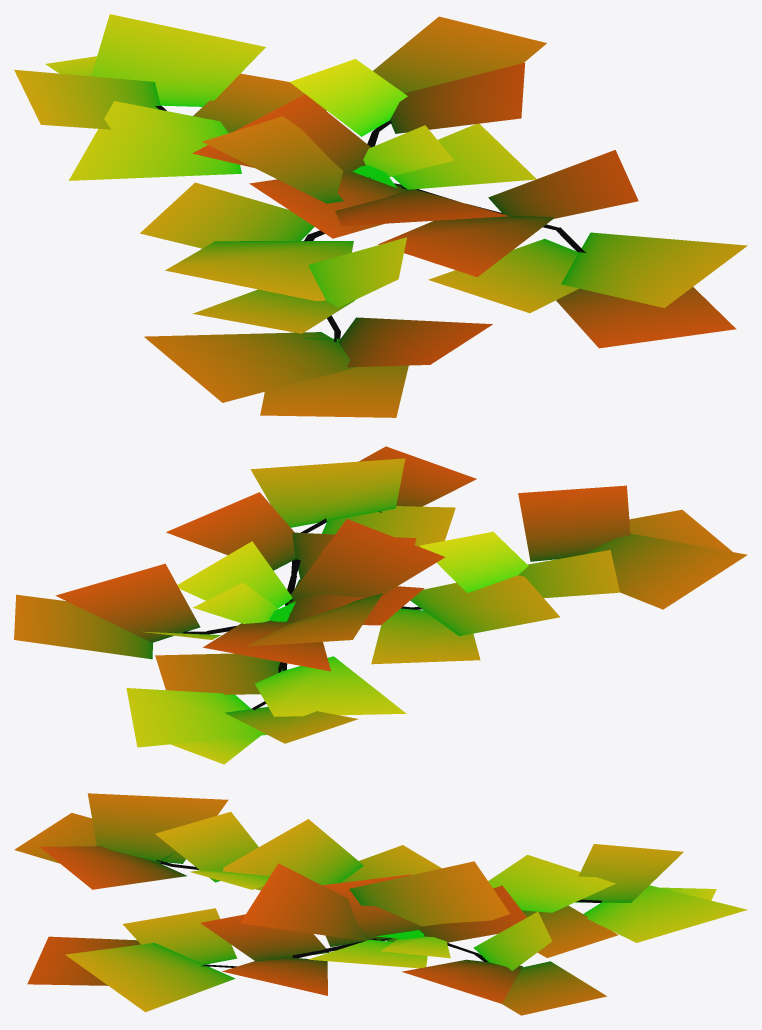
Rendered from Var5_LOD2.fbx.
3 views of the same model, one above another, from view 1: azimuth 30°, elevation 25°; view 2: azimuth 150°, elevation 25°; view 3: azimuth 270°, elevation 25° (orthographic). The views are drawn at different scales.
Visible parts, largest first — view 1: Var5_LOD2; view 2: Var5_LOD2; view 3: Var5_LOD2.
Part boxes in pixels (bbox=[...]): Var5_LOD2: bbox=[14, 14, 747, 417]; Var5_LOD2: bbox=[14, 446, 747, 764]; Var5_LOD2: bbox=[14, 793, 747, 1015].
Bounding box in the file's own units: 35.25 × 3.01 × 47.73.
